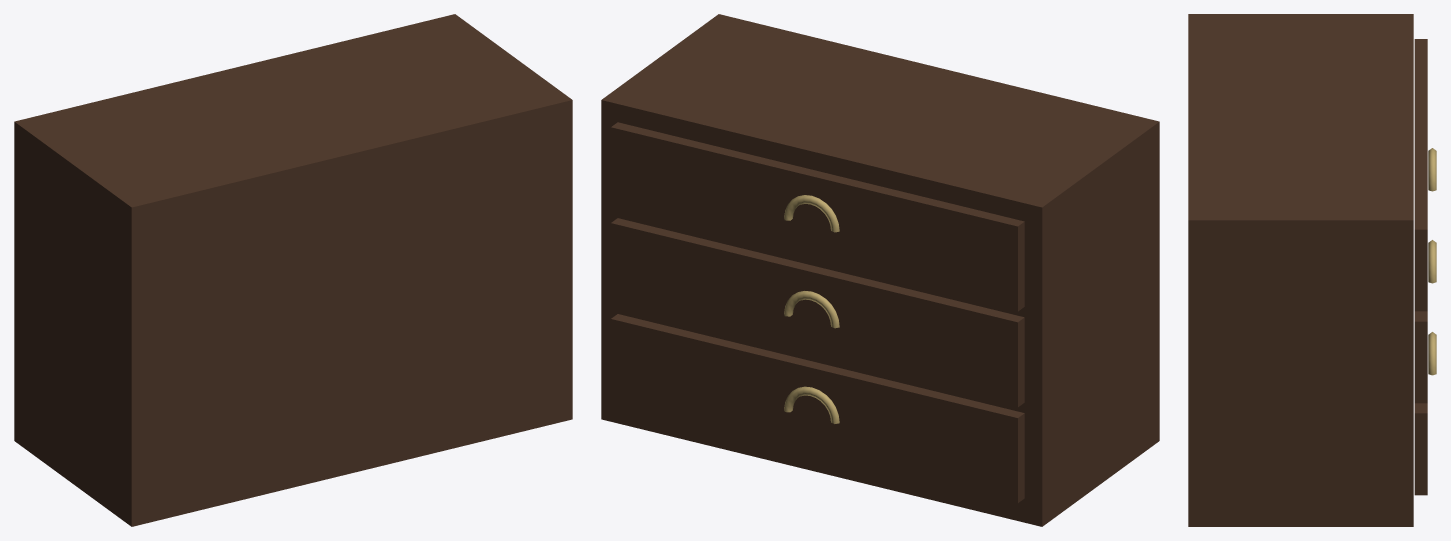
File: cabinet.glb
3 views of the same model, side by side, from view 1: azimuth 30°, elevation 25°; view 2: azimuth 150°, elevation 25°; view 3: azimuth 270°, elevation 25° (orthographic). The views are drawn at different scales.
Bounding box in the file's own units: 1.3 × 0.9 × 0.6614.
